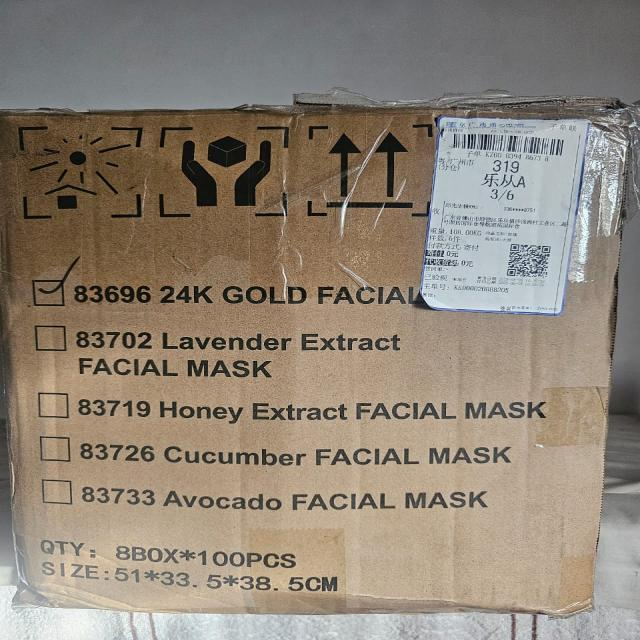carton_box: (0, 93, 640, 631)
export_mark_label: (440, 115, 572, 324)
handle_with_care_label: (148, 120, 300, 220)
package_damage: (5, 96, 639, 135), (0, 518, 69, 617), (610, 113, 635, 379)
protect_from_heat_label: (7, 119, 156, 227)
this_side_up_label: (305, 118, 440, 221)
